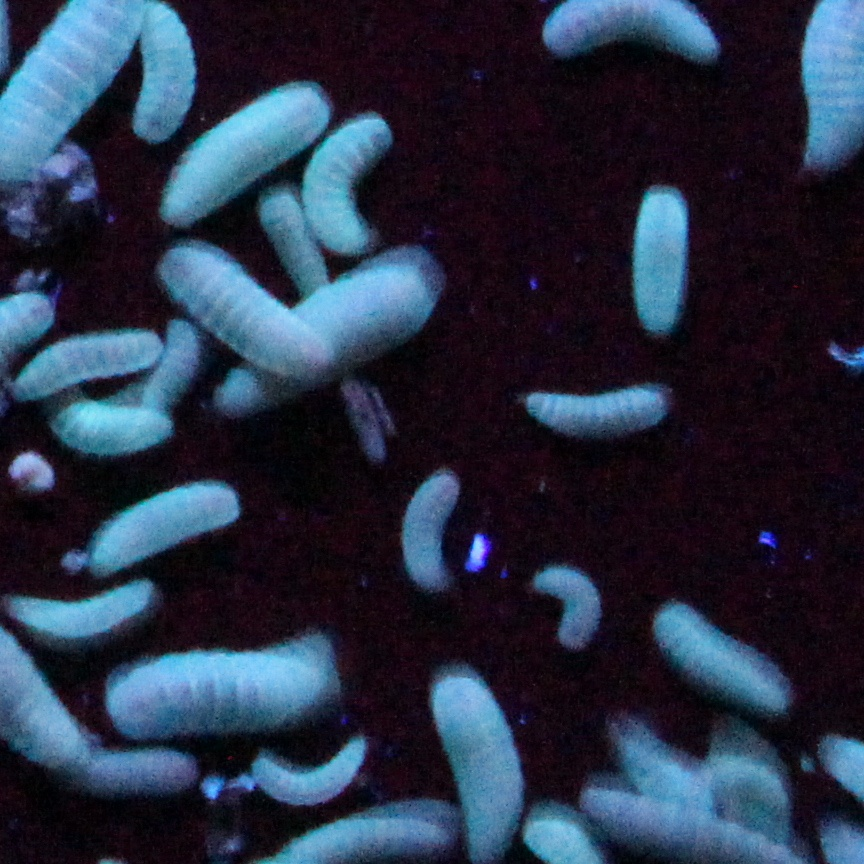larve: (221, 250, 423, 402), (149, 85, 306, 228), (166, 248, 332, 382), (110, 656, 334, 732), (650, 592, 786, 708), (95, 476, 252, 562), (442, 700, 514, 844), (321, 119, 392, 245), (135, 5, 198, 142), (9, 336, 155, 393), (522, 384, 690, 428), (3, 588, 160, 633), (242, 742, 369, 797), (394, 484, 450, 592), (630, 188, 674, 324), (75, 756, 200, 802), (55, 410, 172, 453), (546, 576, 610, 652)
